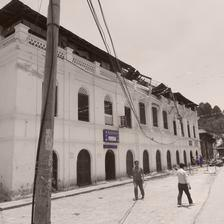Destroyed_Building: (0, 0, 204, 200)
